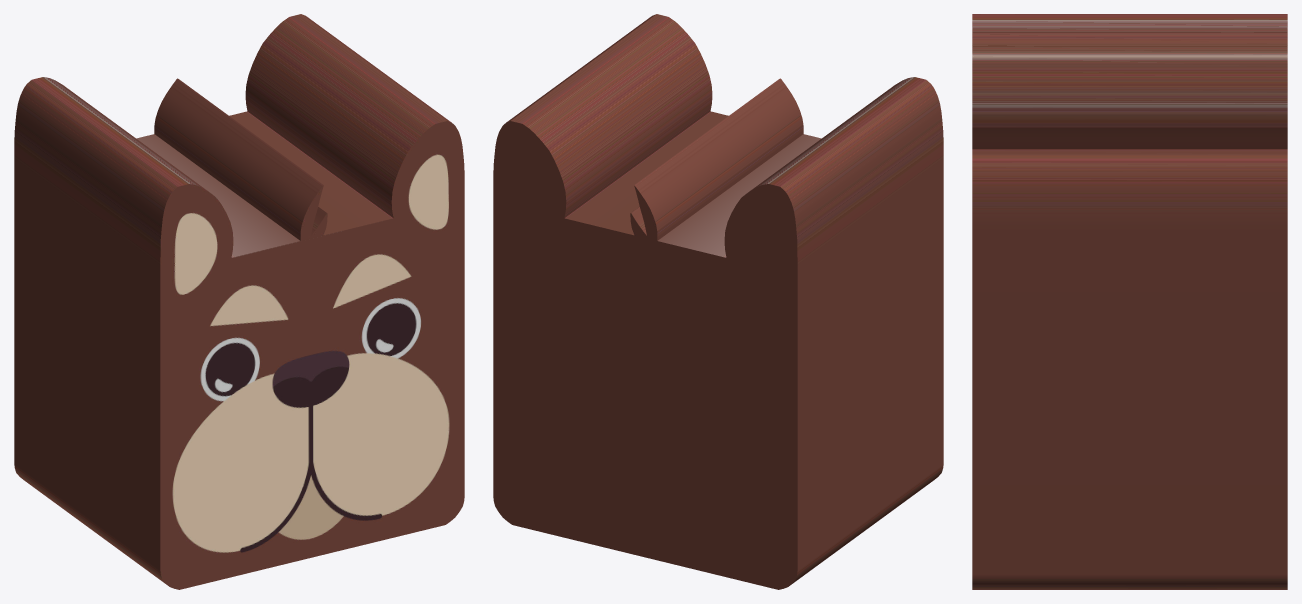
Rendered from Dog.fbx.
3 renders of one model, left to right at view 1: azimuth 30°, elevation 25°; view 2: azimuth 150°, elevation 25°; view 3: azimuth 270°, elevation 25°, orthographic. The views are drawn at different scales.
Visible parts, largest first — view 1: Dog; view 2: Dog; view 3: Dog.
Part boxes in pixels (x1=…): Dog: x1=14, y1=14, x2=464, y2=589; Dog: x1=493, y1=14, x2=943, y2=589; Dog: x1=972, y1=14, x2=1287, y2=589.
Size of the model in its own units: 5.36 by 6.79 by 4.46.
1 material, 1 textured.
